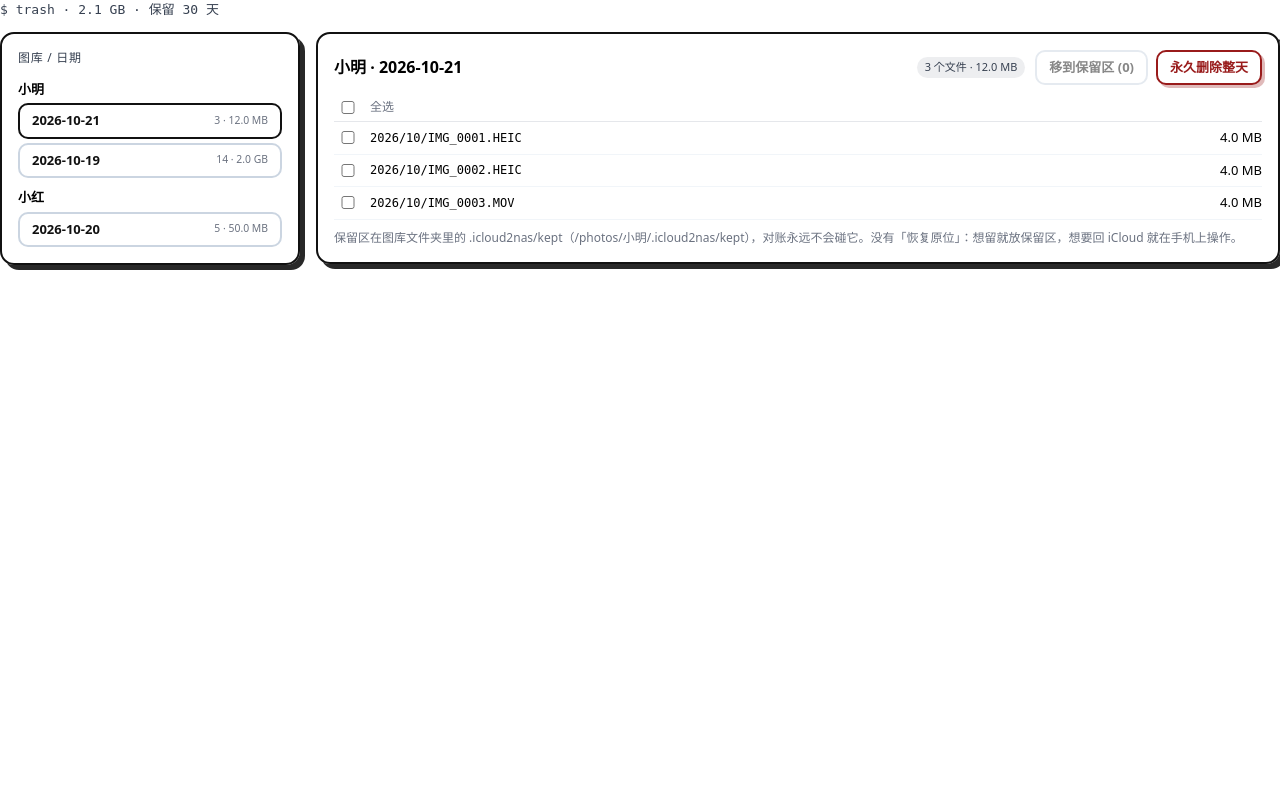
Scenario: Trash page › 永久删除整天 asks for confirmation then deletes and moves selection
Click the button "永久删除整天": (1209, 67) [1156, 50, 1262, 85]
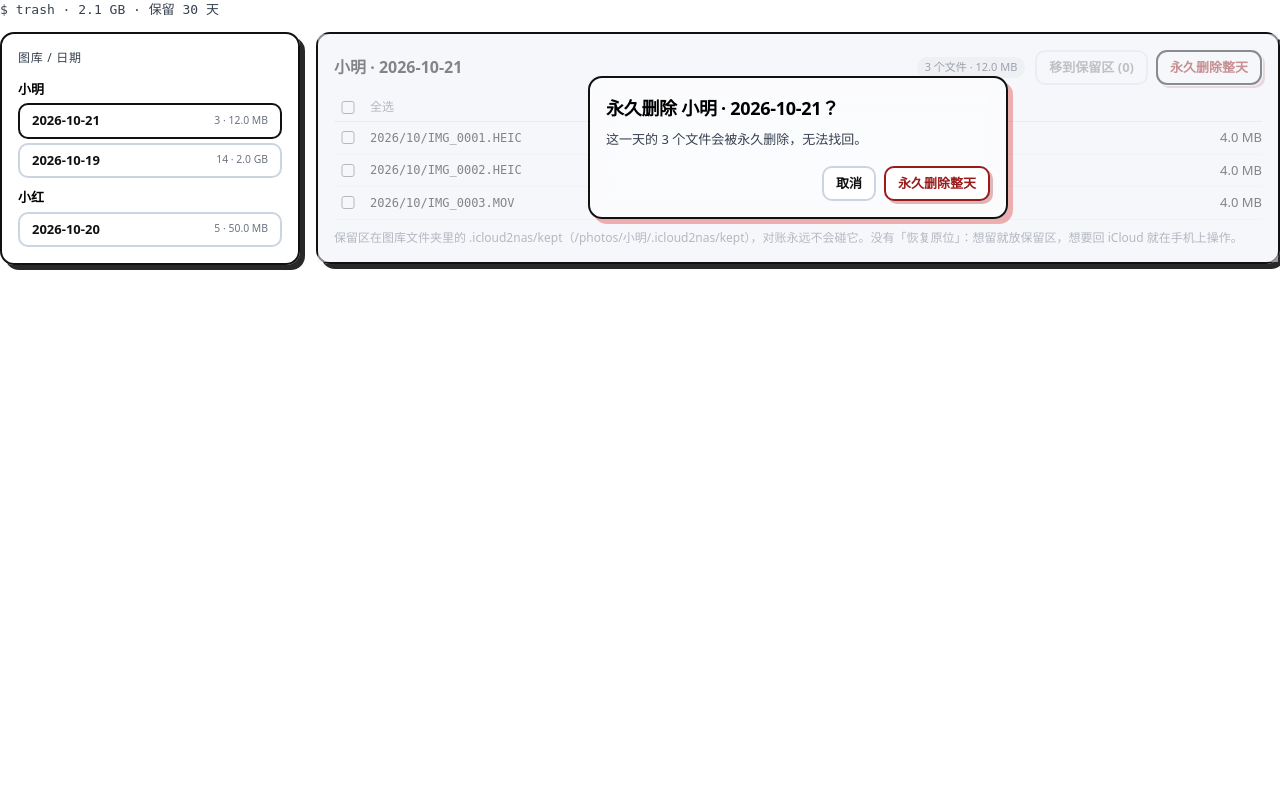
Click the button "永久删除整天": (937, 183) [884, 166, 990, 201]
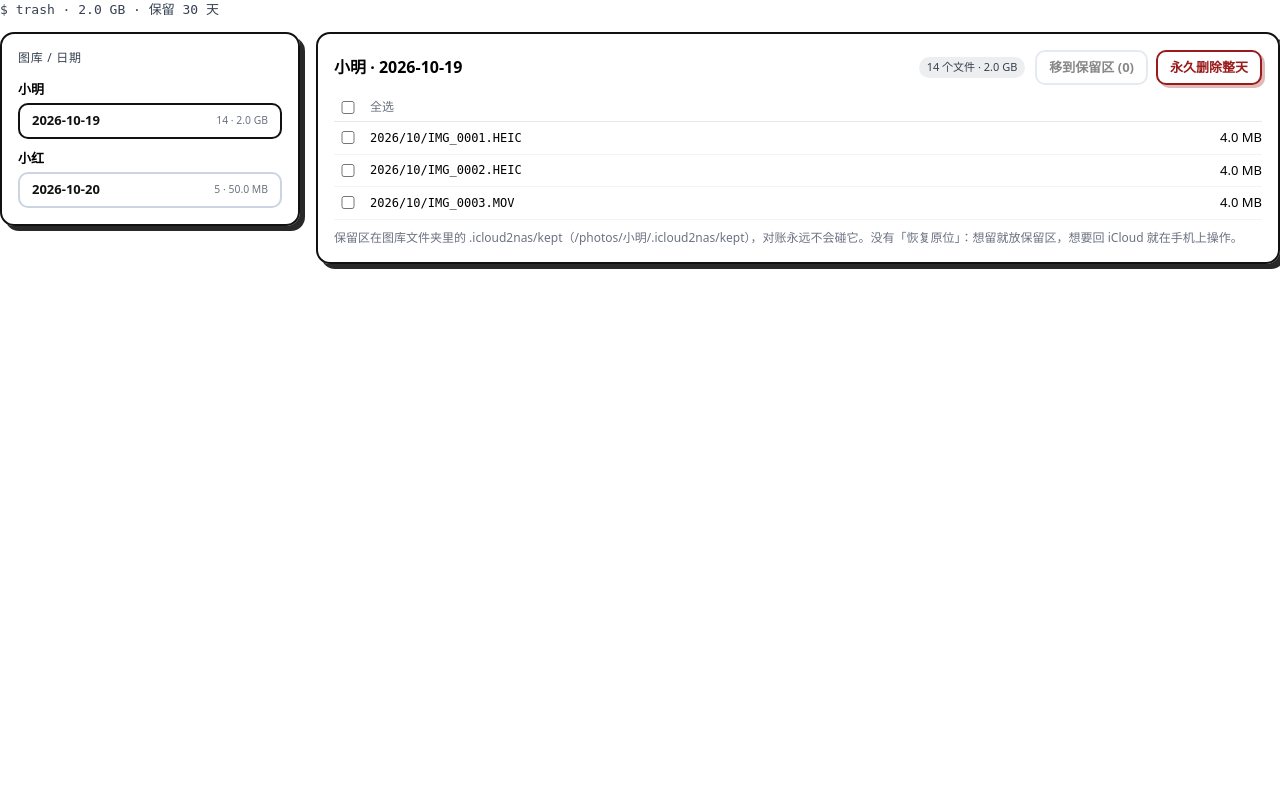
Expected: the text "小明 · 2026-10-19" is shown, [334, 56, 462, 78]
Expected: the dialog is gone
